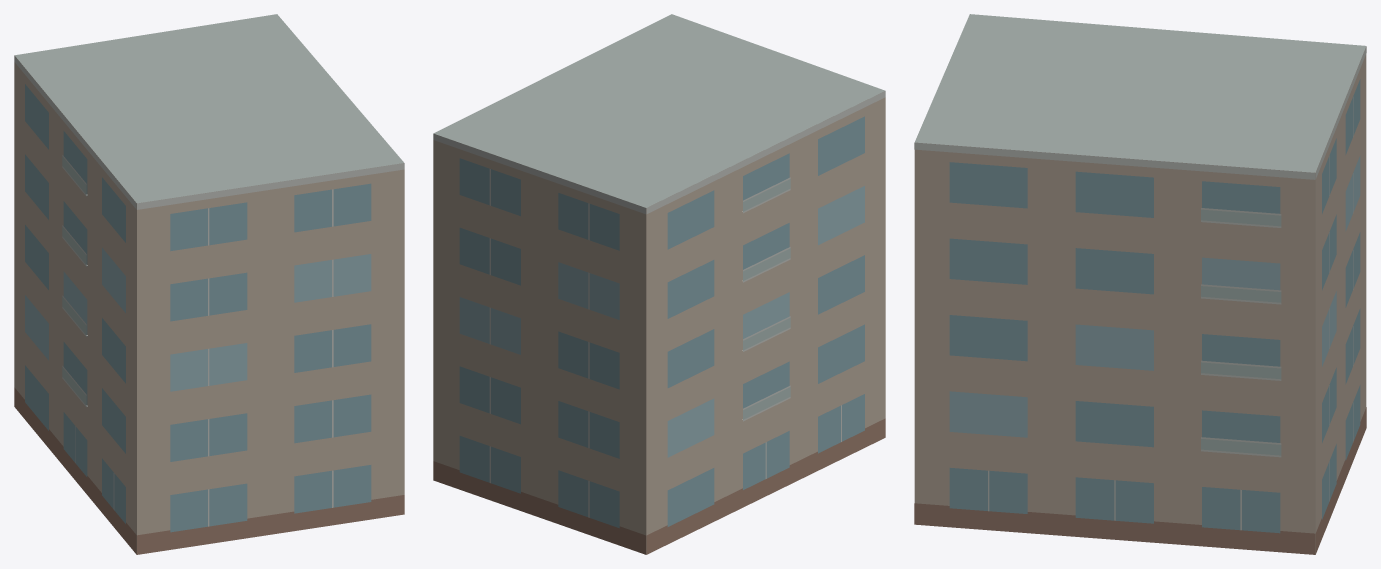
File: survey-upis-32887513.glb
3 renders of one model, left to right at view 1: azimuth 30°, elevation 25°; view 2: azimuth 150°, elevation 25°; view 3: azimuth 270°, elevation 25°, orthographic. The views are drawn at different scales.
Parts seen in each view (by area): view 1: survey-upis-32887513.tmp; view 2: survey-upis-32887513.tmp; view 3: survey-upis-32887513.tmp.
Boxes of the visible parts, bbox=[...] form: survey-upis-32887513.tmp: bbox=[14, 14, 404, 554]; survey-upis-32887513.tmp: bbox=[433, 14, 885, 554]; survey-upis-32887513.tmp: bbox=[914, 14, 1366, 554].
Size of the model in its own units: 11.73 by 13.15 by 14.11.
